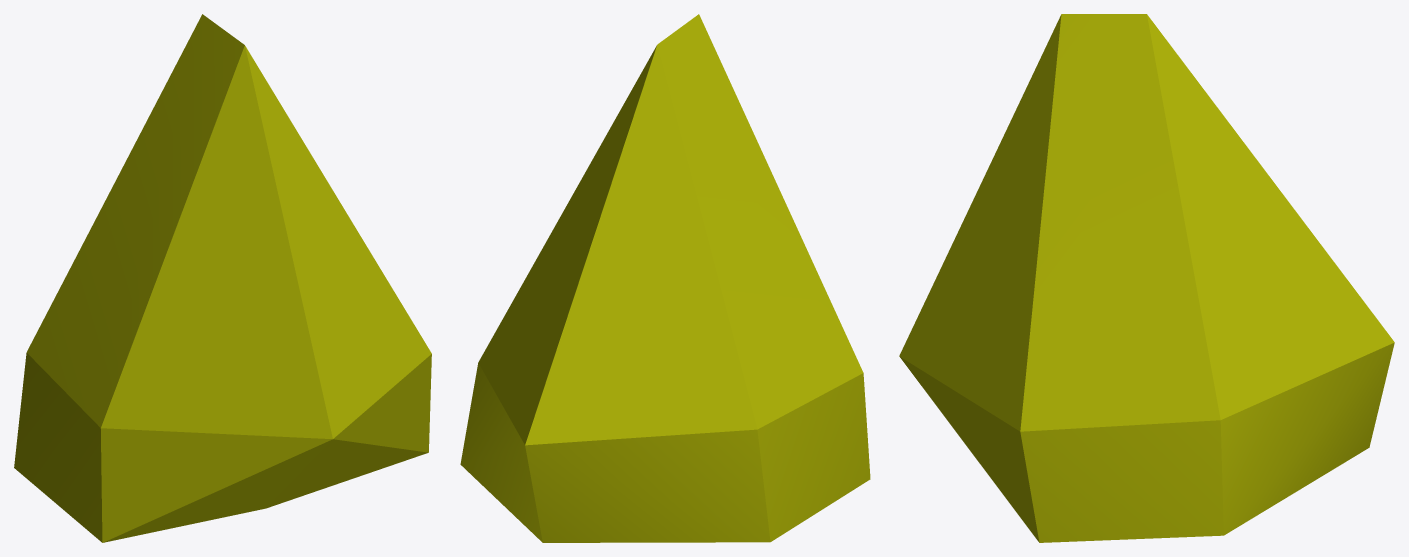
Rendered from GobNose2.fbx.
3 views of the same model, side by side, from view 1: azimuth 30°, elevation 25°; view 2: azimuth 150°, elevation 25°; view 3: azimuth 270°, elevation 25° (orthographic). The views are drawn at different scales.
Visible parts, largest first — view 1: Icosphere; view 2: Icosphere; view 3: Icosphere.
Boxes of the visible parts, x1,y1,x2,y2 form: Icosphere: (14, 14, 431, 542); Icosphere: (460, 14, 870, 542); Icosphere: (899, 14, 1394, 542).
Size of the model in its own units: 0.0389 by 0.0517 by 0.0501.
